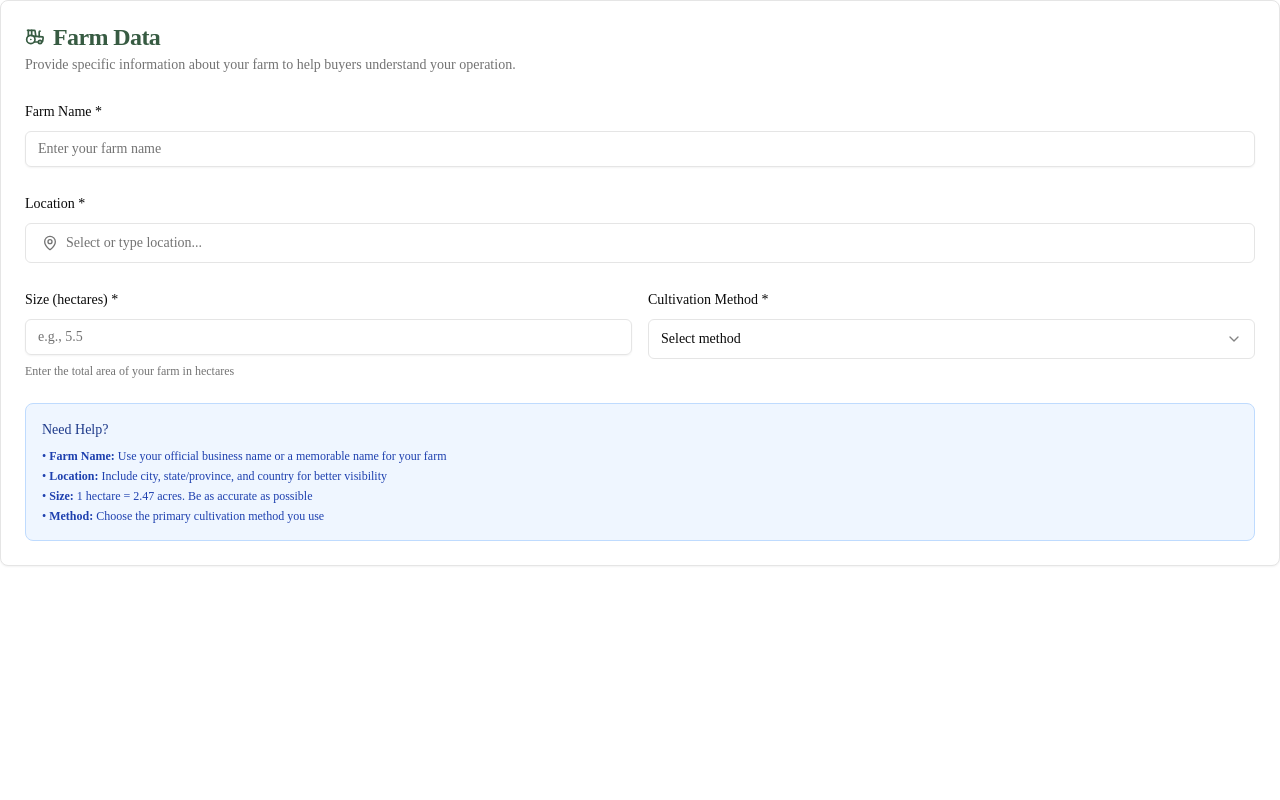
it: FarmDataSection › opens location autocomplete when clicked
The width and height of the screenshot is (1280, 800).
Click the dropdown labelled "Select or type location...". click: [134, 242]
box: [25,223,1255,263]
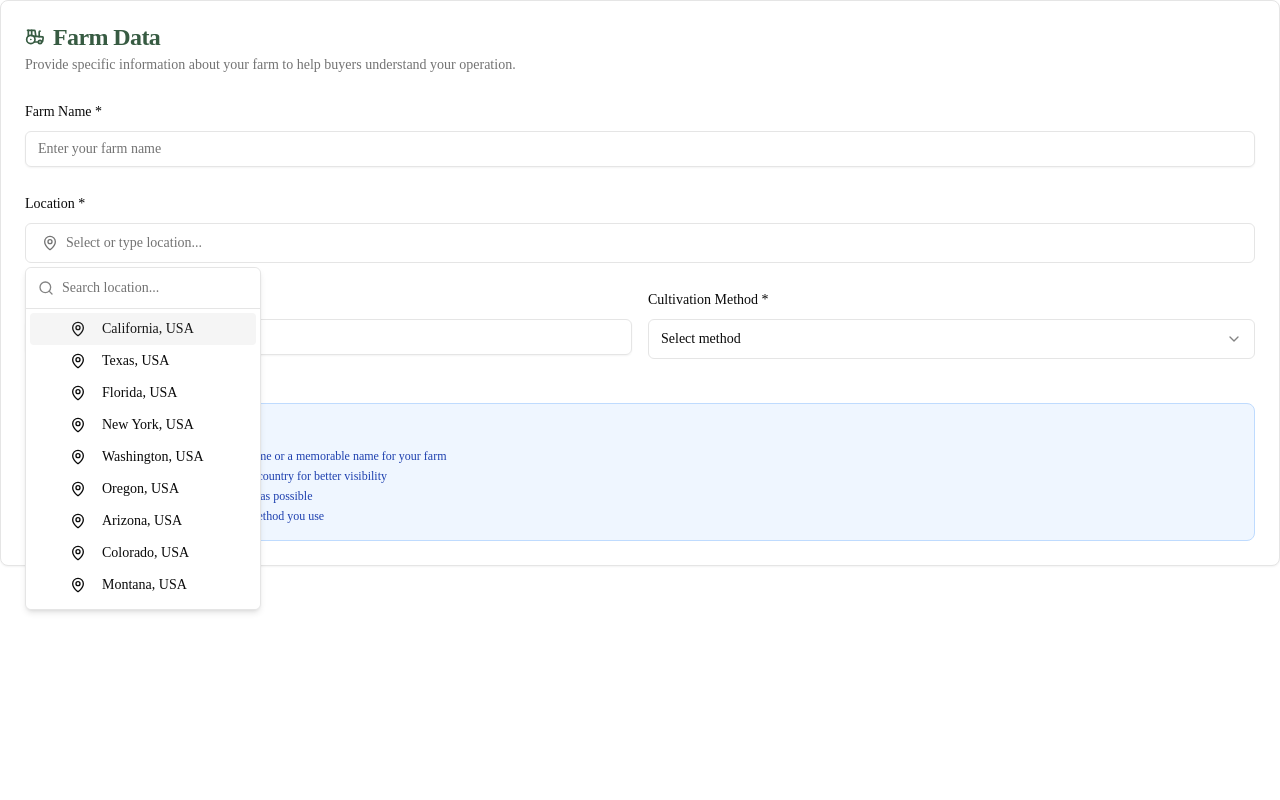
Now the dropdown with placeholder "Search location..." is shown, box [62,268,248,308]
